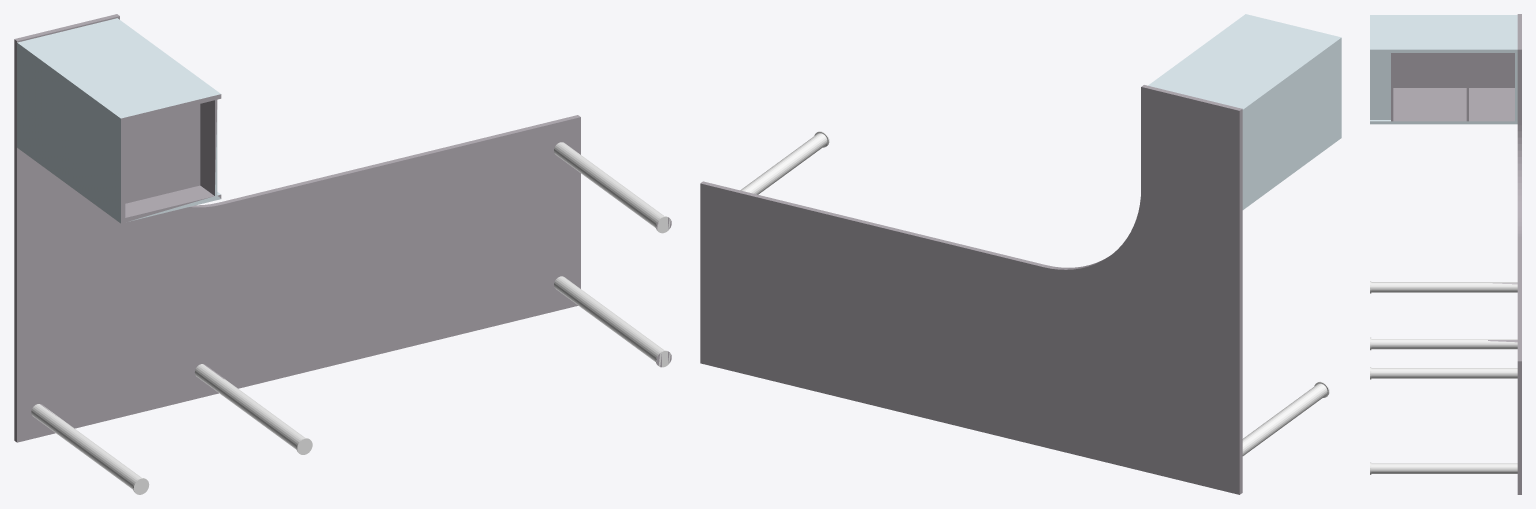
The model's file is Desk_1_FL.dae.
The picture shows the model from 3 angles, left to right: view 1: azimuth 30°, elevation 25°; view 2: azimuth 150°, elevation 25°; view 3: azimuth 270°, elevation 25°; orthographic projection. The views are drawn at different scales.
Visible parts, largest first — view 1: node0; view 2: node0; view 3: node0.
Boxes of the visible parts, x1,y1,x2,y2 form: node0: [14, 14, 671, 494]; node0: [700, 14, 1341, 494]; node0: [1370, 14, 1521, 494].
Bounding box in the file's own units: 2.19 × 0.718 × 1.49.
